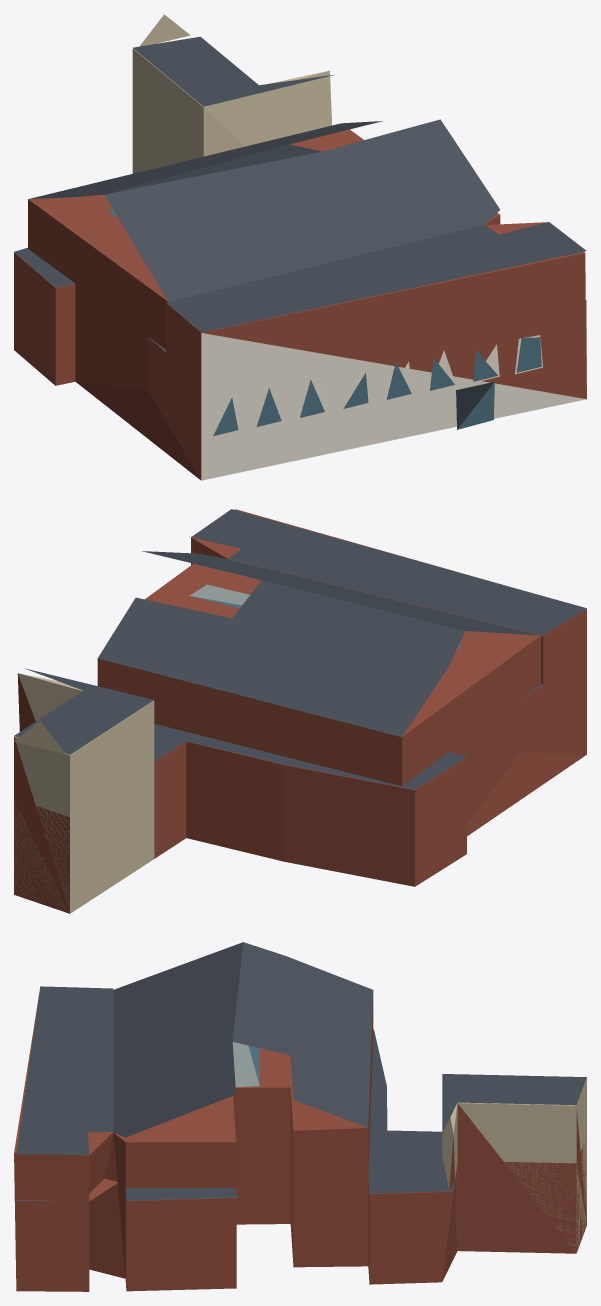
Rendered from frascati.lod2.glb.
3 renders of one model, top to bottom at view 1: azimuth 30°, elevation 25°; view 2: azimuth 150°, elevation 25°; view 3: azimuth 270°, elevation 25°, orthographic. The views are drawn at different scales.
Visible parts, largest first — view 1: lod2; view 2: lod2; view 3: lod2.
Part boxes in pixels (bbox=[...]): lod2: bbox=[14, 14, 586, 480]; lod2: bbox=[14, 509, 586, 913]; lod2: bbox=[14, 942, 586, 1291].
Size of the model in its own units: 38.84 by 19.45 by 54.01.
